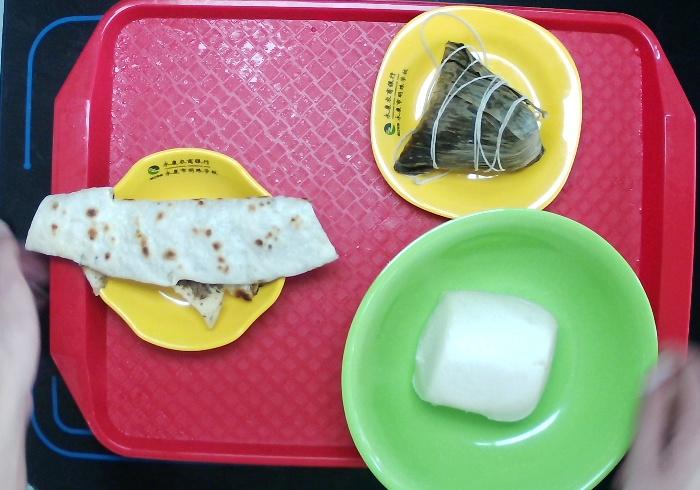YKMZ-Huang_Se_Ao_Bian_Wan: (74, 144, 288, 349)
YKMZ-Huang_Se_Fang_Die: (368, 3, 593, 216)
YKMZ-Lv_Se_Tang_Wan: (334, 207, 665, 490)
